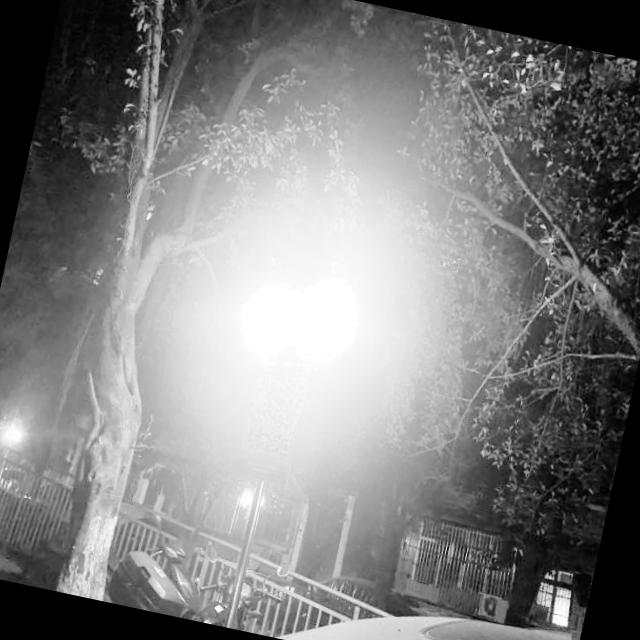Light: (233, 265, 366, 368)
Tree: (19, 0, 265, 607)
